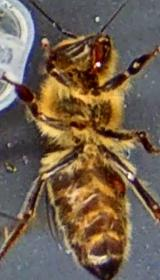varroa_mite: (106, 171, 132, 217)
